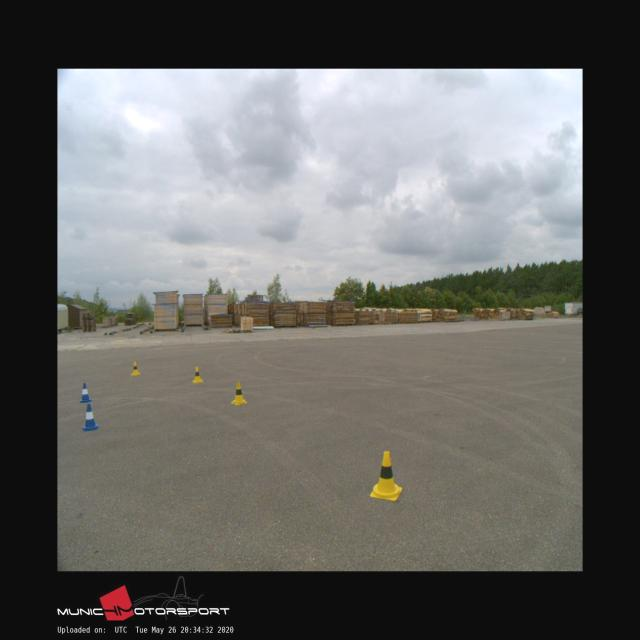blue_cone: (82, 403, 99, 431), (79, 383, 91, 401)
yellow_cone: (369, 450, 402, 500), (231, 382, 247, 404), (191, 367, 203, 383), (130, 361, 140, 374)
